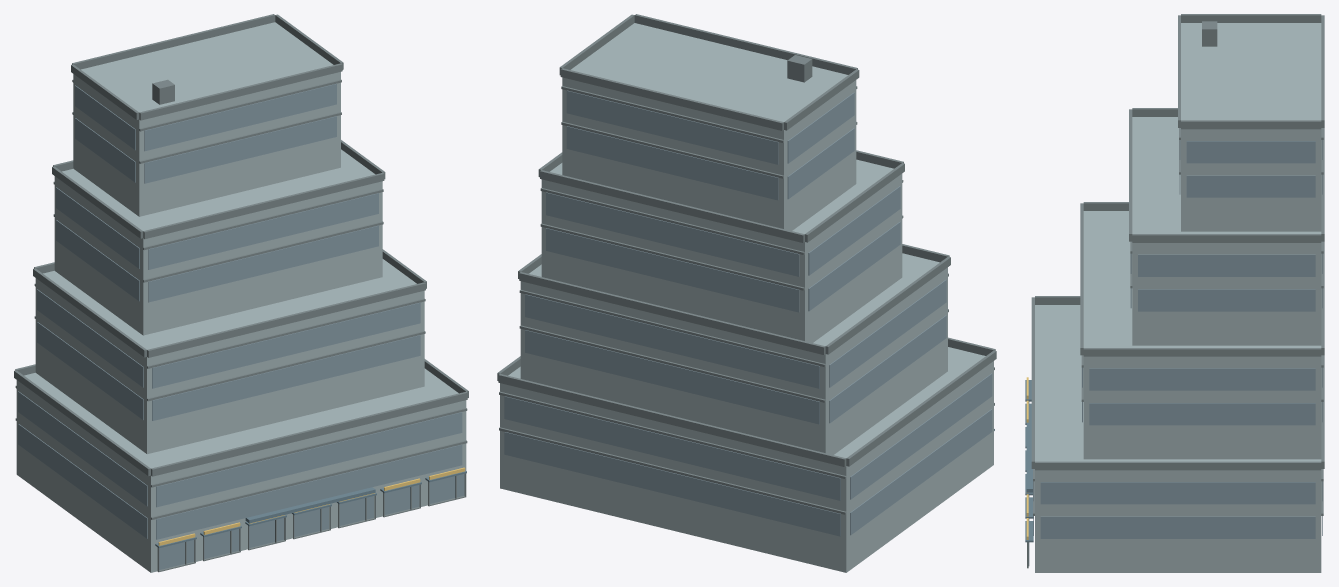
The model's file is commercial_4x3_terraces.glb.
3 views of the same model, side by side, from view 1: azimuth 30°, elevation 25°; view 2: azimuth 150°, elevation 25°; view 3: azimuth 270°, elevation 25° (orthographic). The views are drawn at different scales.
Visible parts, largest first — view 1: commercial_4x3_terraces_0; view 2: commercial_4x3_terraces_0; view 3: commercial_4x3_terraces_0.
Boxes of the visible parts, x1,y1,x2,y2 form: commercial_4x3_terraces_0: (14, 14, 468, 572); commercial_4x3_terraces_0: (497, 14, 996, 572); commercial_4x3_terraces_0: (1025, 14, 1324, 572).
Bounding box in the file's own units: 31 × 37.5 × 23.5.
